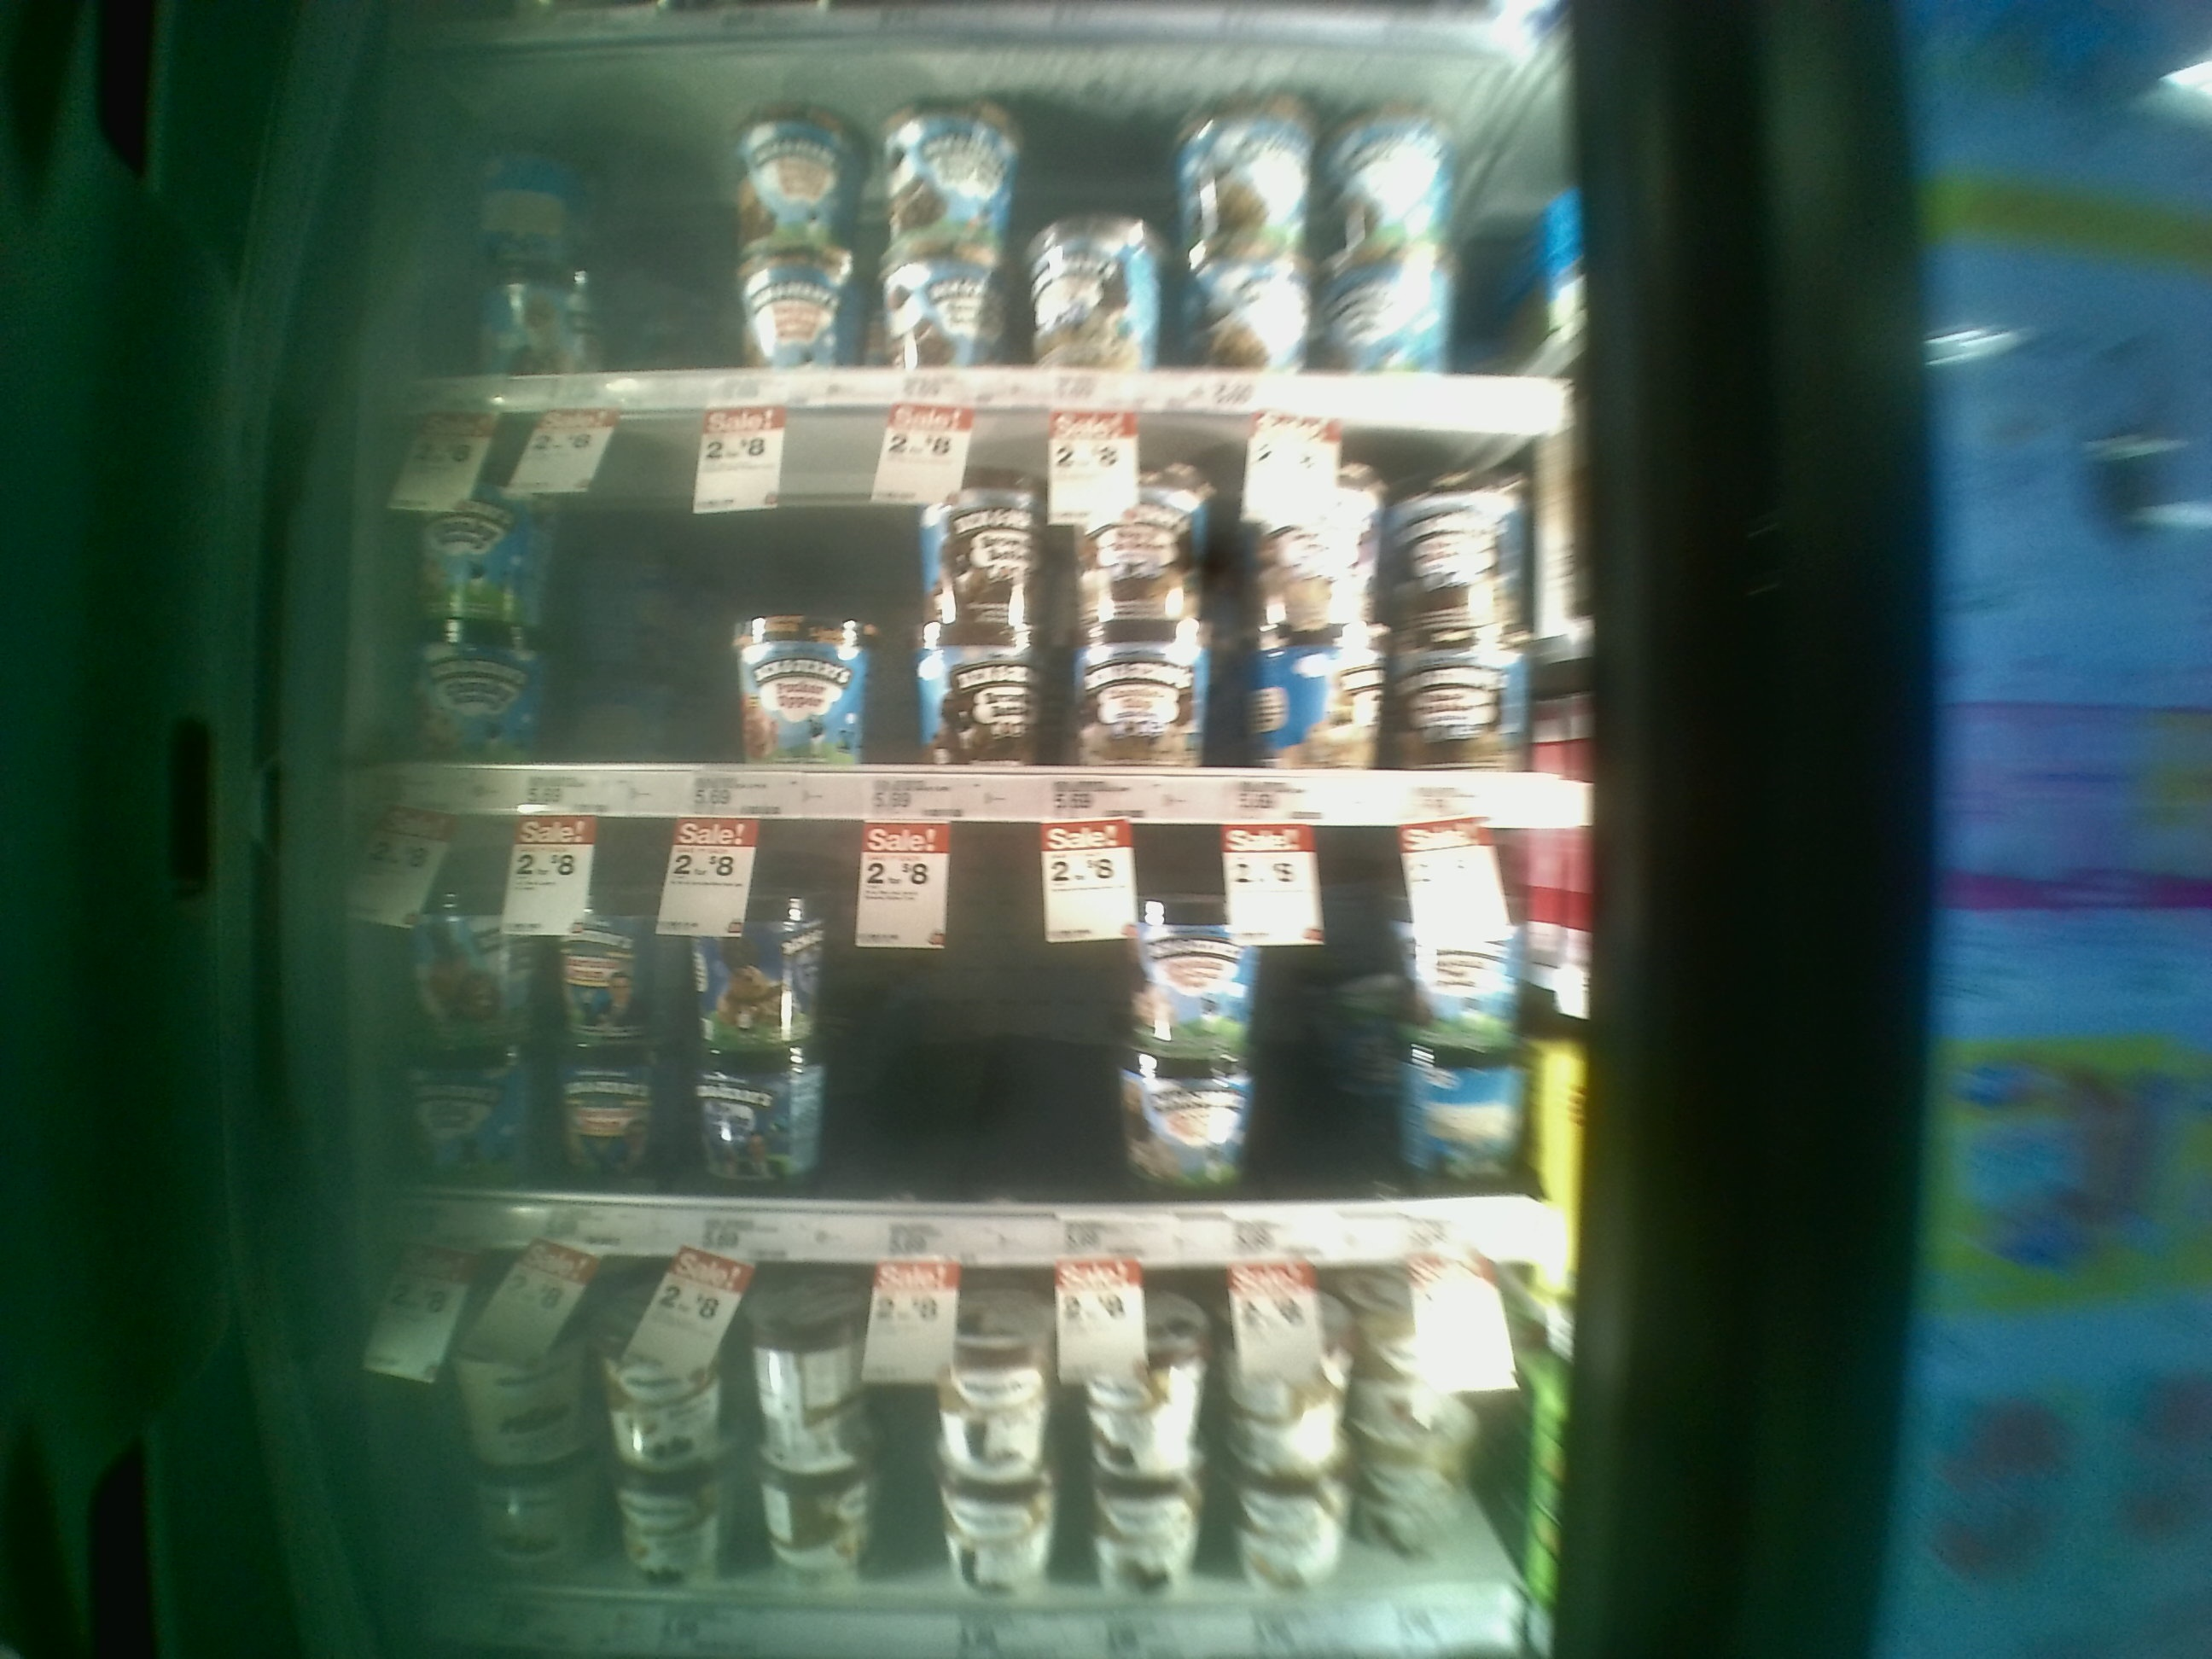shelf: (374, 833, 1578, 1258), (369, 408, 1583, 828), (341, 33, 1609, 416), (366, 1263, 1578, 1659)
